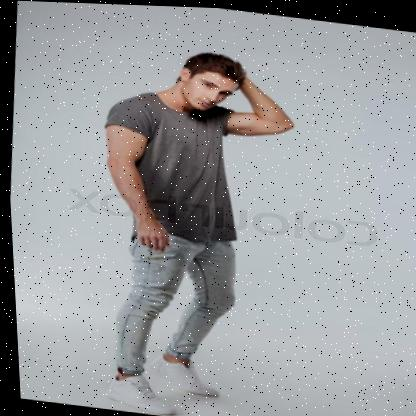person: (74, 38, 315, 416)
